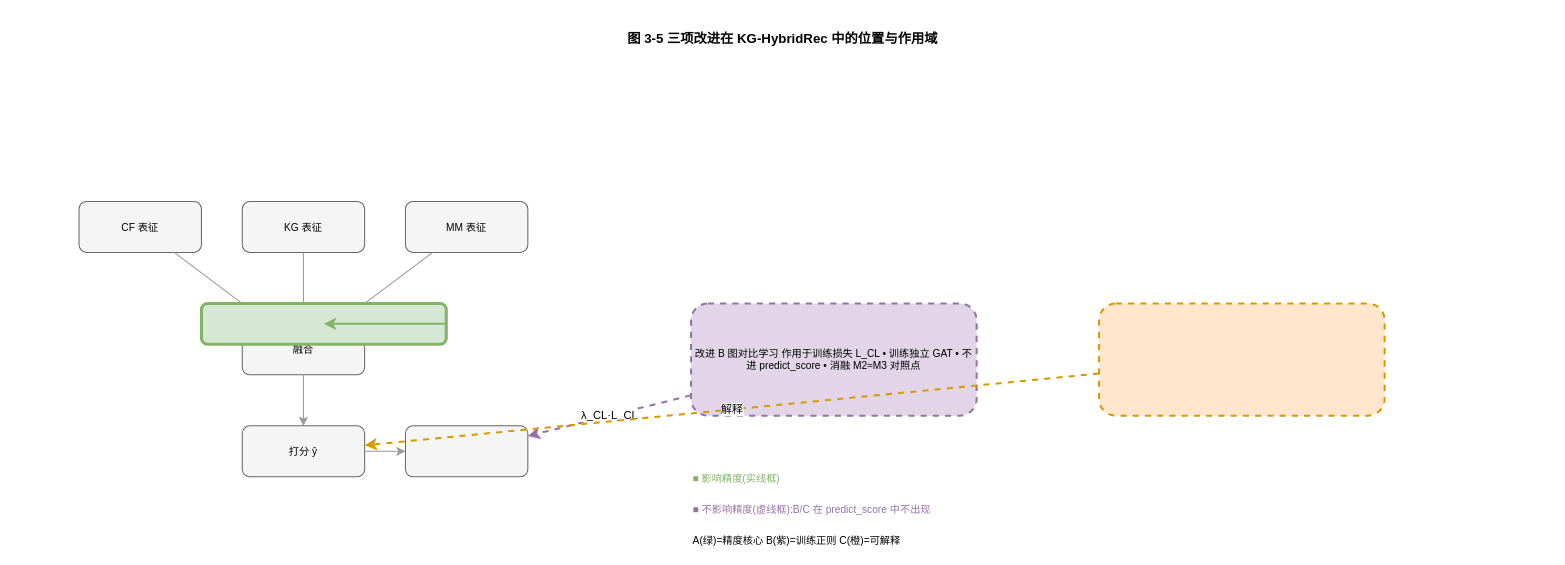
Image size: 1565x565. Some labels were removed from this diagram. The centre of each missing label's shape, as x and y in pixels:
损失 L: the point at 466,451
改进 A 自适应门控 CAGF 作用于融合路径,影响 HR • cold_mask 依交互数 • CF/KG/MM 动态权重: the point at 323,323
改进 C 注意力路径解释 作用于可解释输出 • 不进训练损失 • 不进 predict_score • 消融 M2≈M3 对照点: the point at 1241,359
